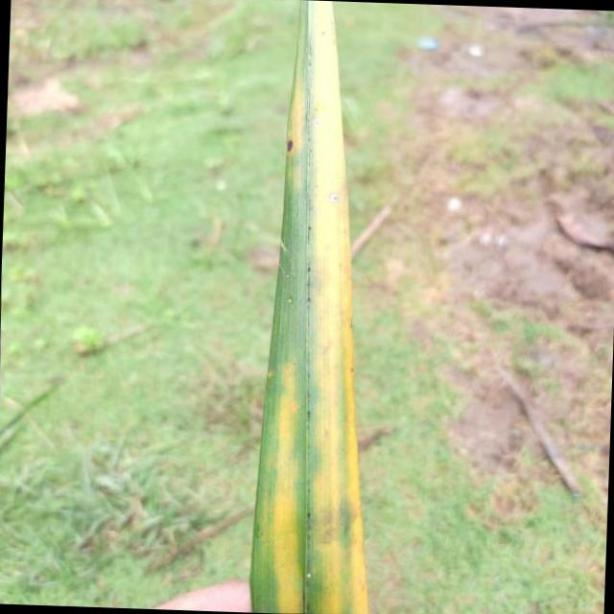Megnesium: (248, 0, 368, 614)
